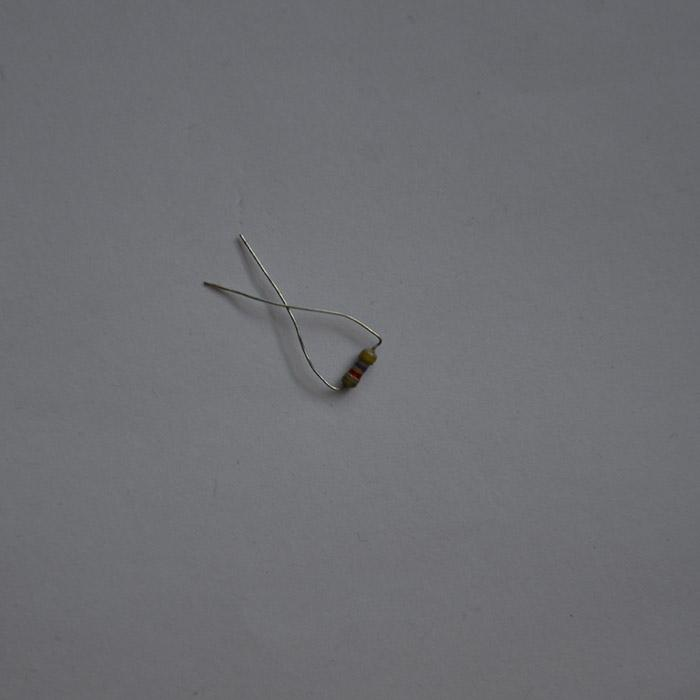resistor: (342, 346, 378, 388)
